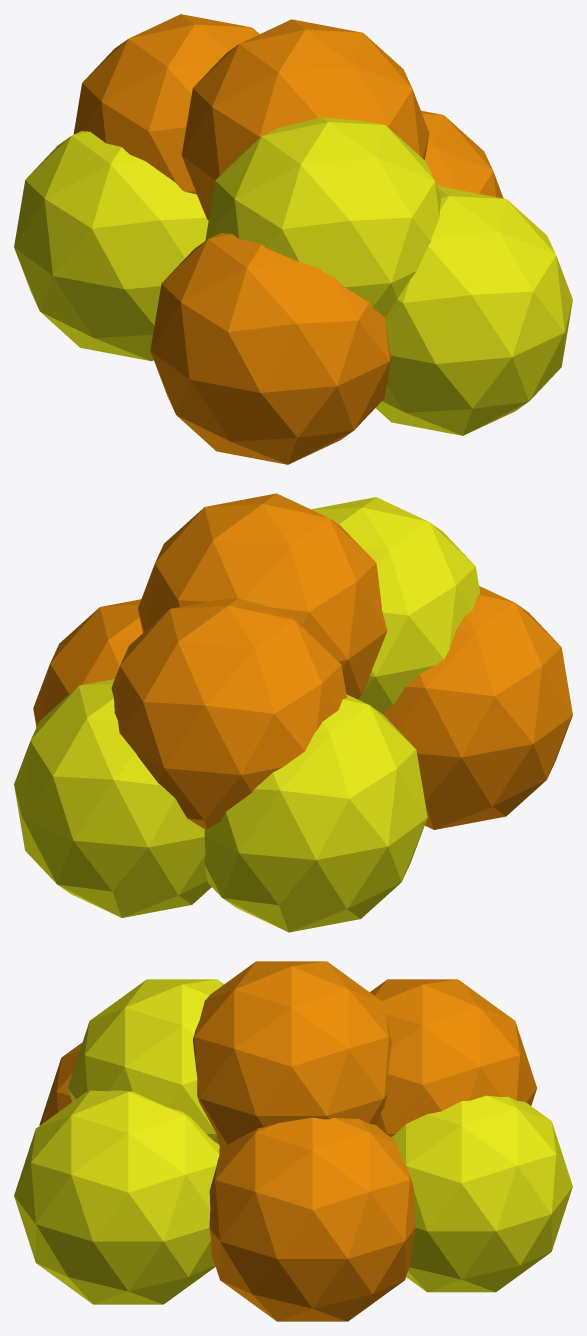
File: kust1.fbx
The picture shows the model from 3 angles, top to bottom: view 1: azimuth 30°, elevation 25°; view 2: azimuth 150°, elevation 25°; view 3: azimuth 270°, elevation 25°; orthographic projection. The views are drawn at different scales.
Parts seen in each view (by area): view 1: Icosphere.004; view 2: Icosphere.004; view 3: Icosphere.004.
Part boxes in pixels (x1,y1,x2,y2): Icosphere.004: (14,14,572,464); Icosphere.004: (14,493,572,932); Icosphere.004: (14,961,572,1321).
Bounding box in the file's own units: 172 × 138 × 226.
